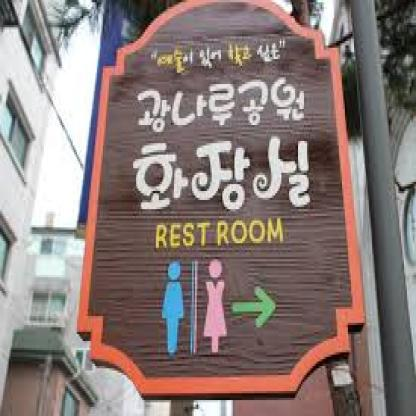toilet: (160, 259, 230, 354)
